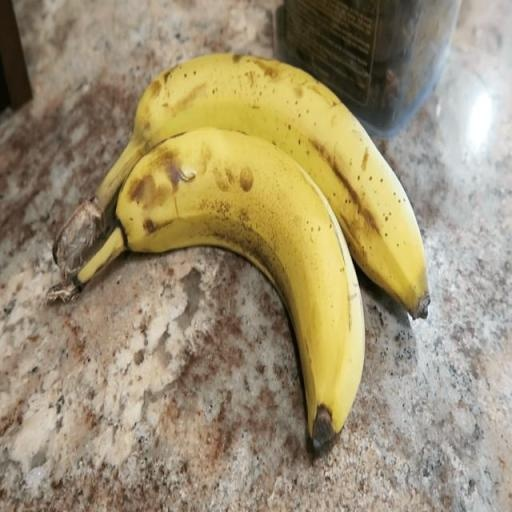fruit: (66, 101, 168, 347), (27, 133, 97, 405), (21, 149, 78, 444)
